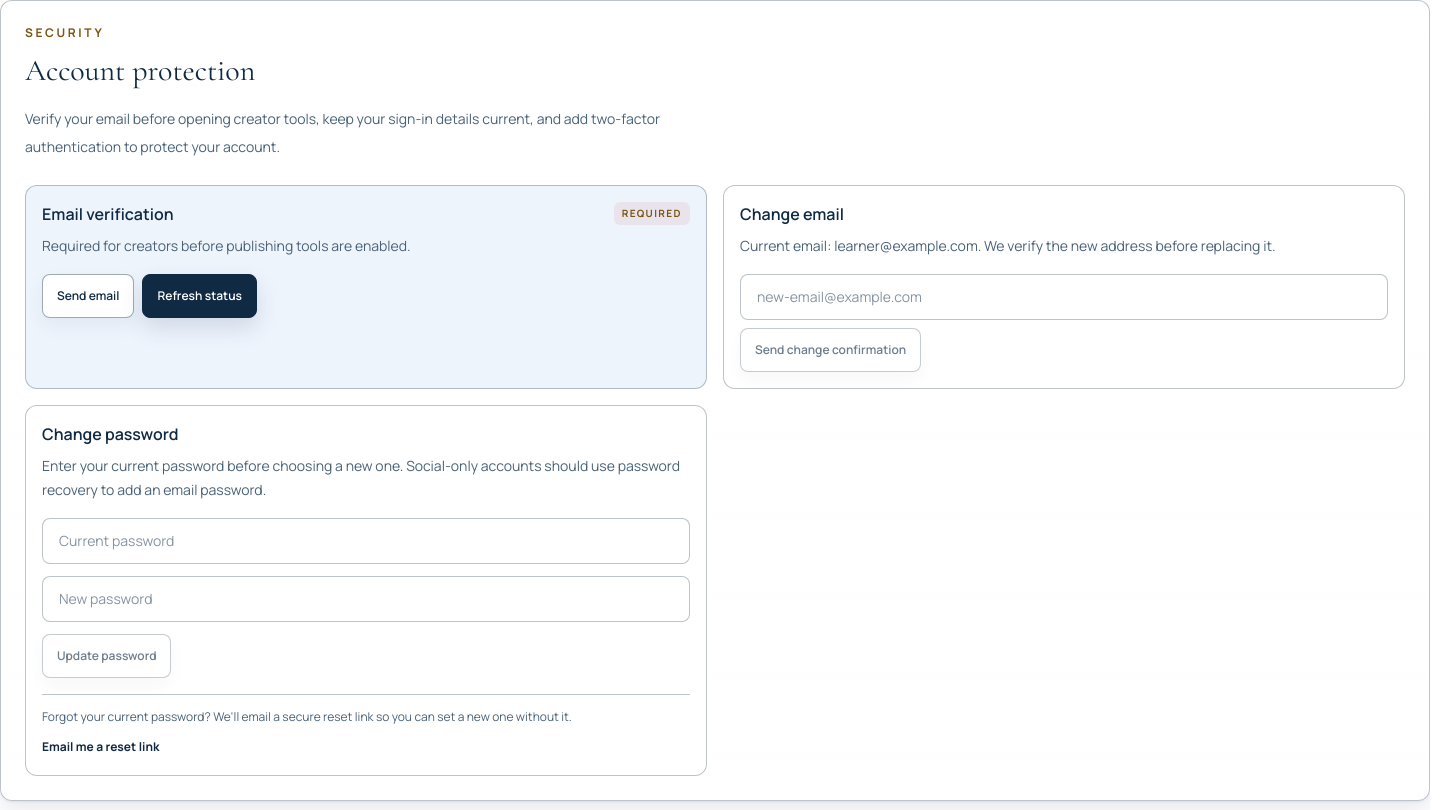
it: SecuritySettingsPanel with CAPTCHA protection on › resends the verification email with the captcha token
Click the button "Send email": coordinates (88, 296) top-left (42, 274), bottom-right (134, 318)
(page scrolled)
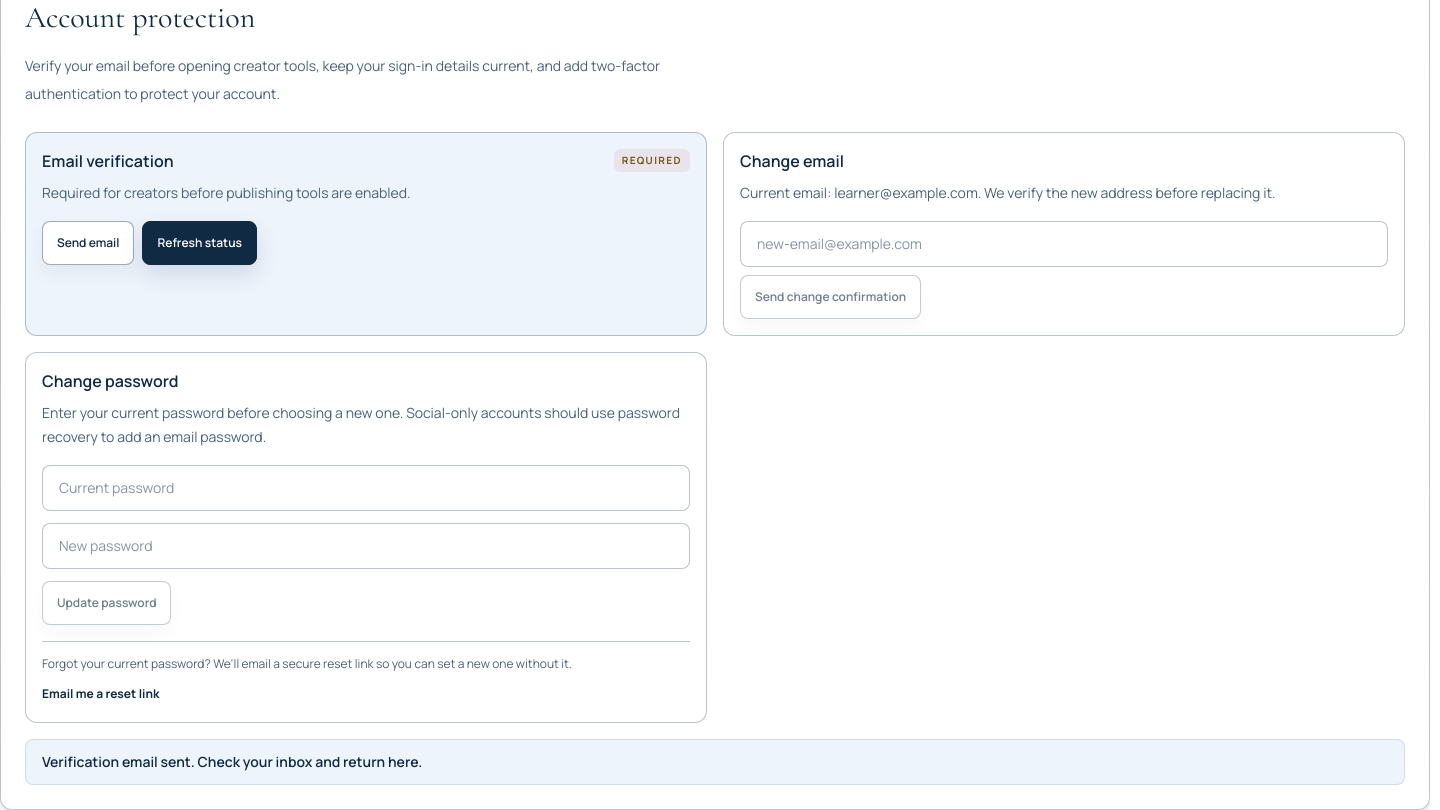
Check: the message "Verification email sent. Check your inbox and return here." is shown, box top-left (25, 739), bottom-right (1405, 785)
